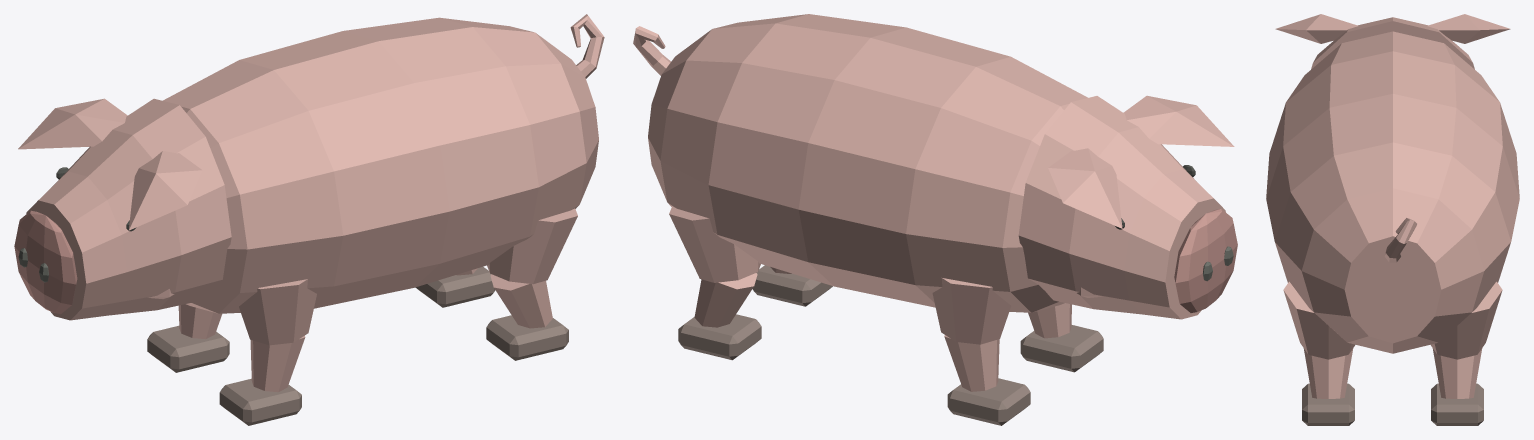
The model's file is pig.glb.
3 renders of one model, left to right at view 1: azimuth 30°, elevation 25°; view 2: azimuth 150°, elevation 25°; view 3: azimuth 270°, elevation 25°, orthographic. The views are drawn at different scales.
Parts seen in each view (by area): view 1: Barrel, head_skin, Snout_Disc, foreL_Upper, Ear_-1, Ear_1, hindL_Upper, foreL_Hoof, foreR_Hoof, hindL_Hoof, foreL_Shin, hindL_Shin (+3 smaller); view 2: Barrel, head_skin, Snout_Disc, foreR_Upper, Ear_1, Ear_-1, hindR_Upper, foreL_Hoof, foreR_Hoof, hindR_Hoof, foreR_Shin, hindR_Shin (+3 smaller); view 3: Barrel, hindR_Upper, hindL_Upper, head_skin, hindL_Shin, hindR_Shin, hindL_Hoof, hindR_Hoof, Ear_1, Ear_-1, Curly_Tail.
Part boxes in pixels (box(x1,y1,x2,y2)): Barrel: box(163, 17, 598, 313); head_skin: box(26, 98, 231, 320); Snout_Disc: box(14, 210, 77, 314); foreL_Upper: box(239, 279, 316, 345); Ear_-1: box(128, 151, 202, 230); Ear_1: box(18, 98, 127, 149); hindL_Upper: box(487, 208, 577, 284); foreL_Hoof: box(219, 378, 301, 425); foreR_Hoof: box(147, 325, 229, 372); hindL_Hoof: box(486, 315, 568, 360); foreL_Shin: box(250, 335, 305, 392); hindL_Shin: box(490, 274, 552, 328); Barrel: box(648, 14, 1087, 312); head_skin: box(1018, 96, 1225, 319); Snout_Disc: box(1174, 209, 1237, 312); foreR_Upper: box(932, 278, 1011, 344); Ear_1: box(1048, 148, 1122, 228); Ear_-1: box(1123, 95, 1234, 146); hindR_Upper: box(669, 206, 760, 282); foreL_Hoof: box(1020, 324, 1103, 372); foreR_Hoof: box(947, 378, 1030, 425); hindR_Hoof: box(678, 314, 761, 360); foreR_Shin: box(944, 335, 999, 391); hindR_Shin: box(694, 273, 757, 327); Barrel: box(1266, 31, 1519, 353); hindR_Upper: box(1430, 281, 1502, 359); hindL_Upper: box(1283, 281, 1355, 359); head_skin: box(1311, 17, 1474, 69); hindL_Shin: box(1303, 348, 1353, 398); hindR_Shin: box(1432, 348, 1482, 398); hindL_Hoof: box(1302, 383, 1354, 425); hindR_Hoof: box(1431, 383, 1483, 425); Ear_1: box(1427, 14, 1510, 43); Ear_-1: box(1275, 14, 1358, 43); Curly_Tail: box(1384, 218, 1416, 262).
Size of the model in its own units: 0.552 by 0.28 by 0.236.
